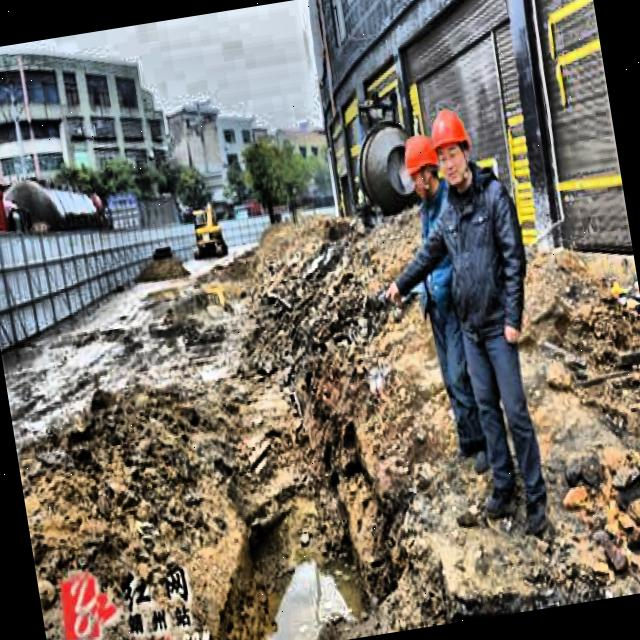helmet: (426, 104, 478, 190), (401, 131, 446, 205)
